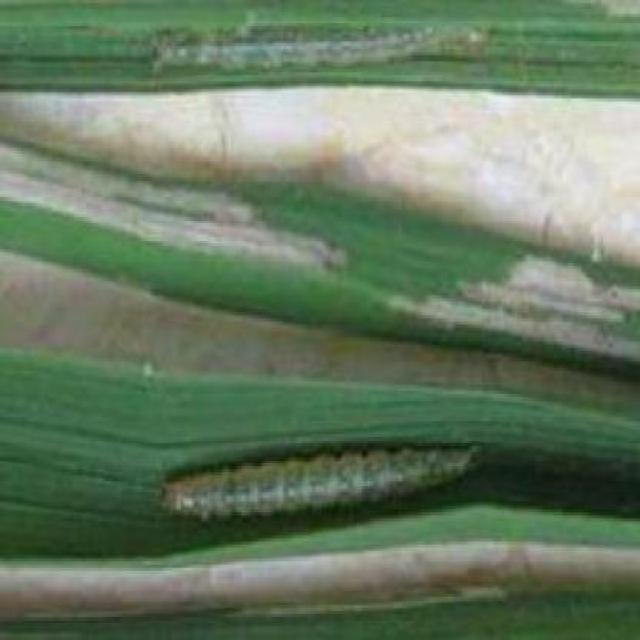leaf-folder: (149, 426, 500, 522), (144, 22, 496, 87)
